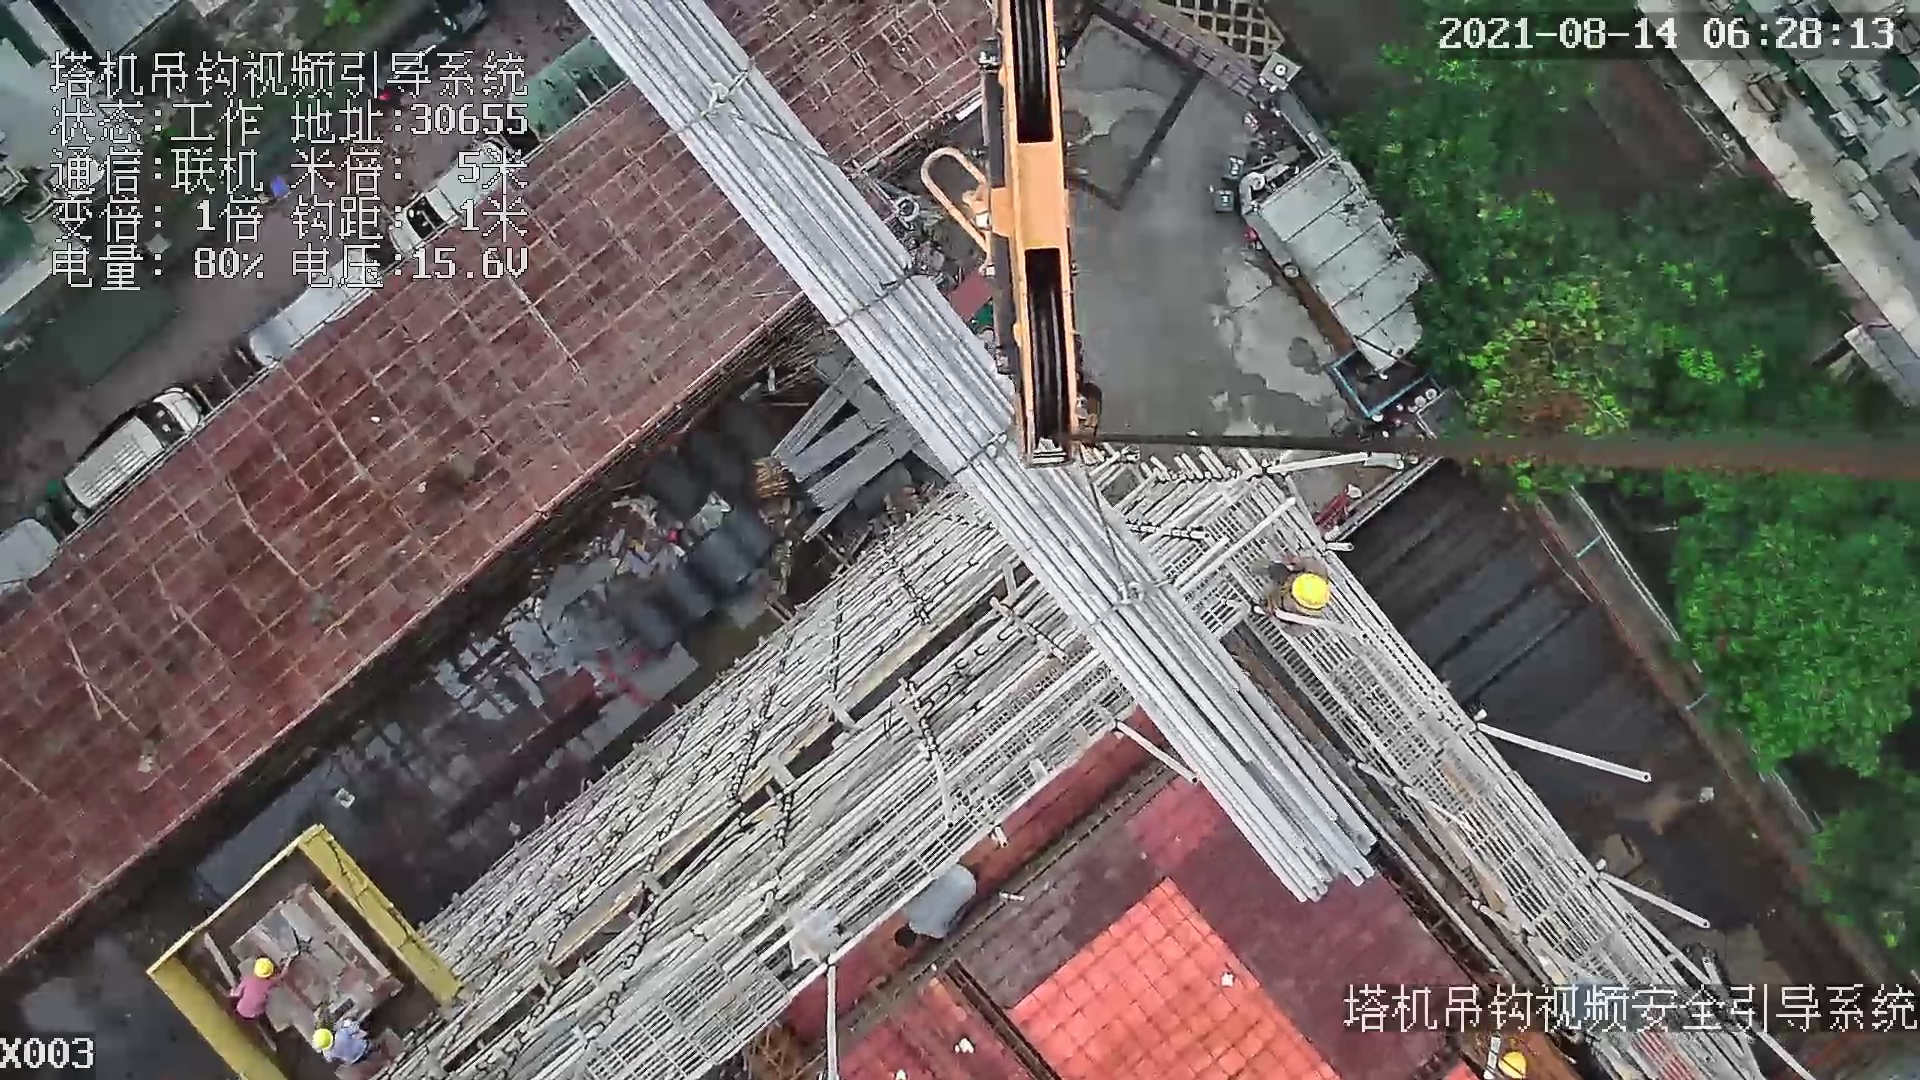helmet: (1285, 567, 1329, 609), (1494, 1045, 1533, 1077), (242, 958, 277, 981), (307, 1027, 335, 1051)
person: (1248, 553, 1338, 638), (228, 950, 290, 1017), (301, 1015, 377, 1063)
